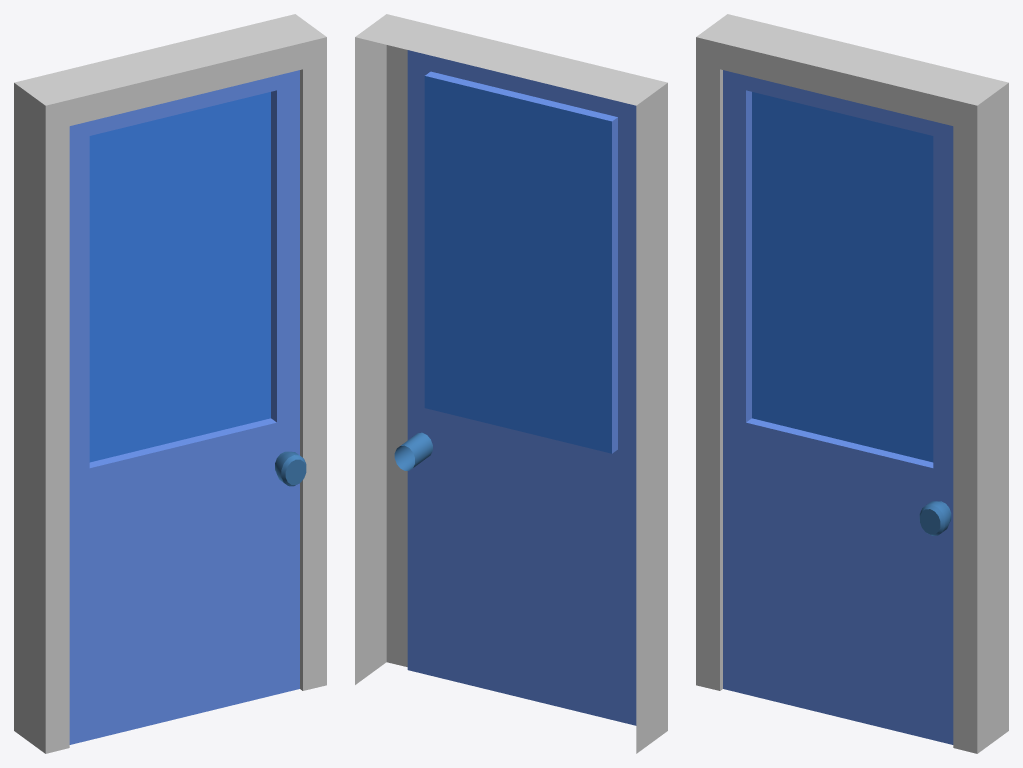
File: 5 door.fbx
3 renders of one model, left to right at view 1: azimuth 30°, elevation 25°; view 2: azimuth 150°, elevation 25°; view 3: azimuth 330°, elevation 25°, orthographic.
Visible parts, largest first — view 1: 5 door; view 2: 5 door; view 3: 5 door.
Boxes of the visible parts, x1,y1,x2,y2 form: 5 door: (14, 14, 326, 753); 5 door: (355, 14, 667, 753); 5 door: (696, 14, 1008, 753).
Bounding box in the file's own units: 45.8 × 101 × 11.2.
